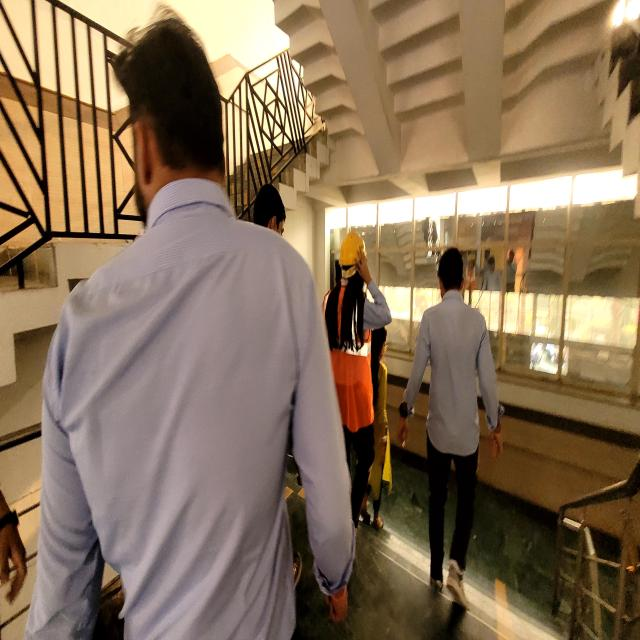safe: (320, 227, 388, 550)
unsafe: (37, 31, 358, 640), (409, 242, 501, 604)
